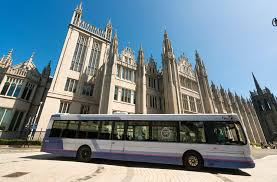bus: (40, 112, 255, 173)
